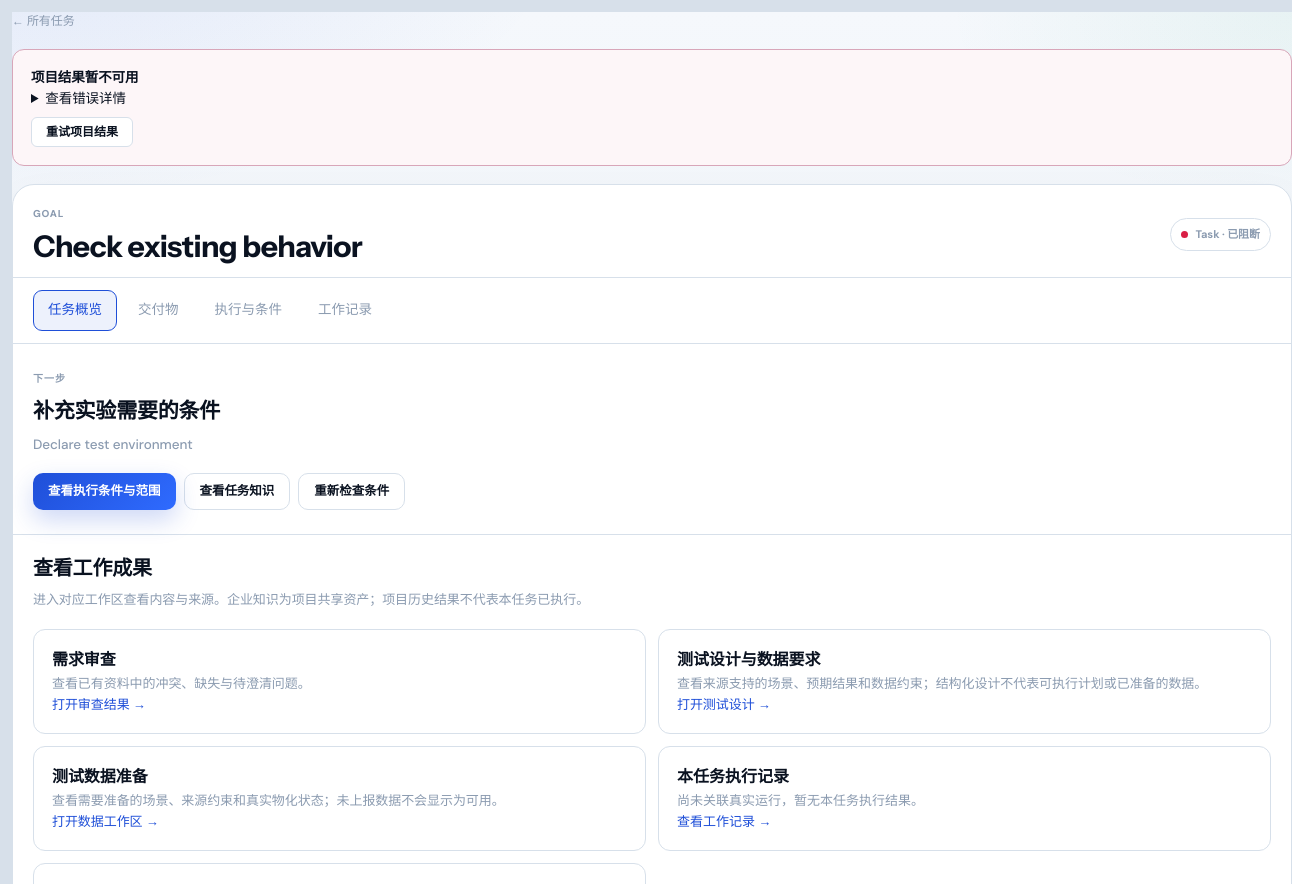
Test case: submits explicit project scope once and reloads durable state on network failure
Click the button "查看执行条件与范围". click: [104, 492]
box: [33, 473, 176, 510]
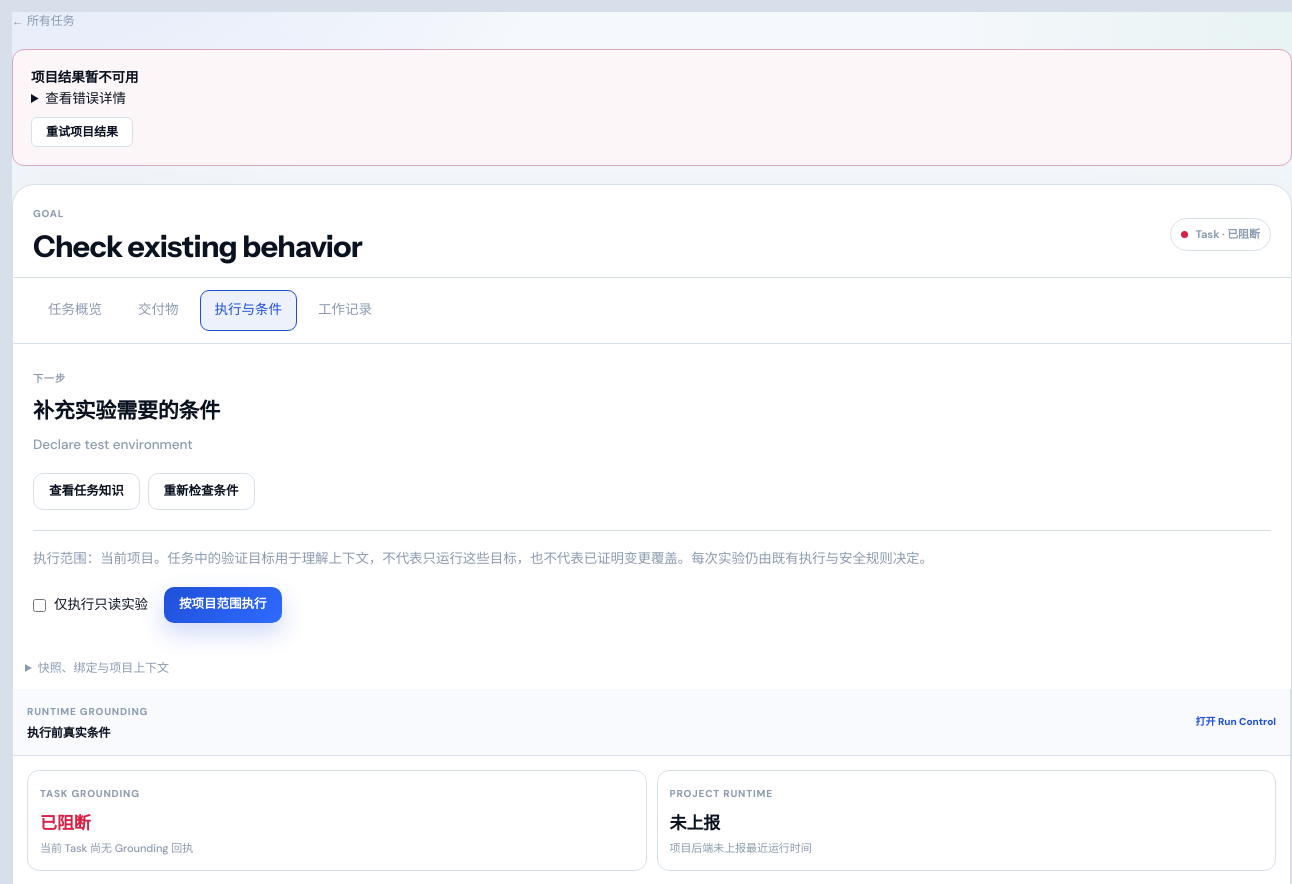
Click the checkbox labelled "仅执行只读实验". click: [40, 605]
box: [33, 599, 46, 612]
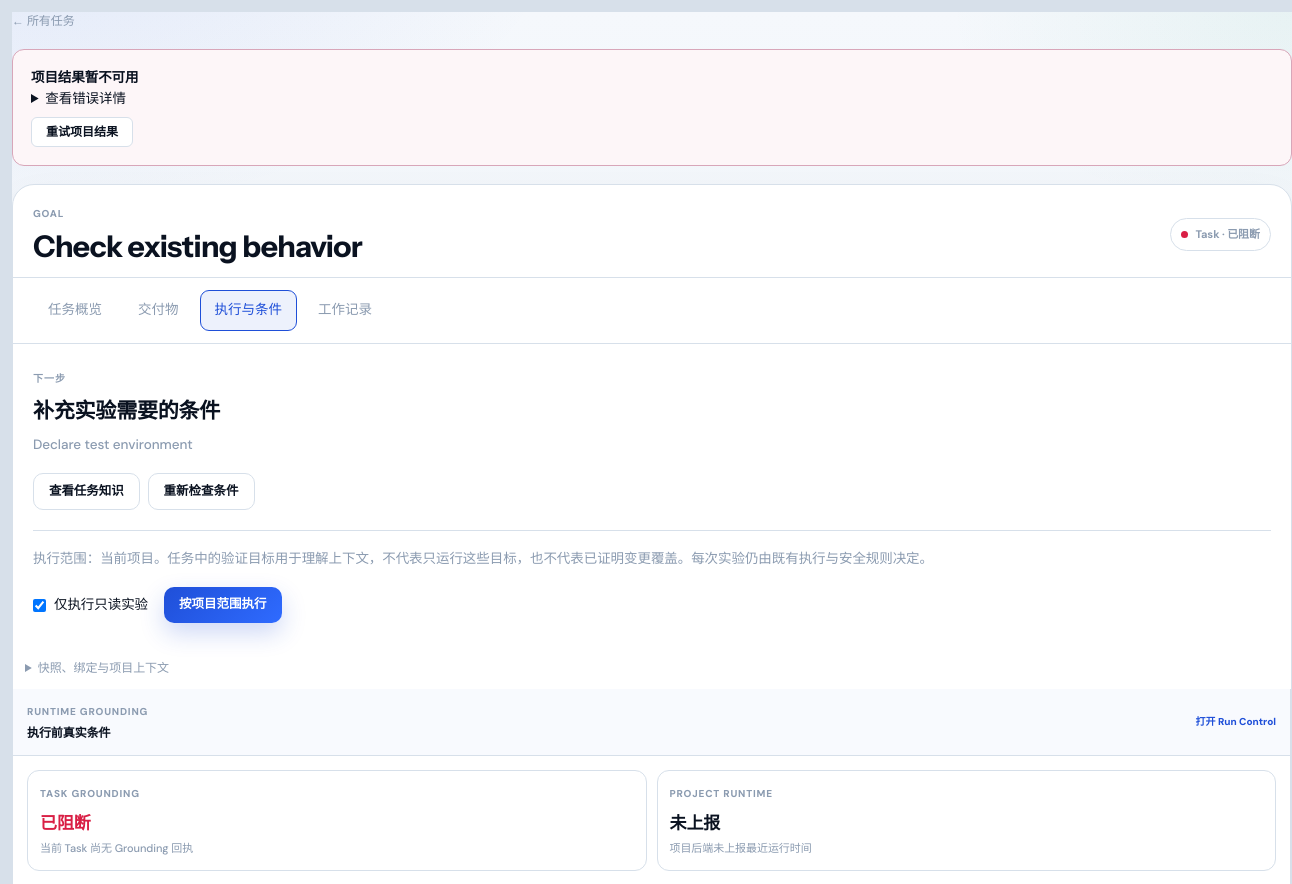
Click the button "按项目范围执行". click: [223, 605]
box: [164, 588, 282, 623]
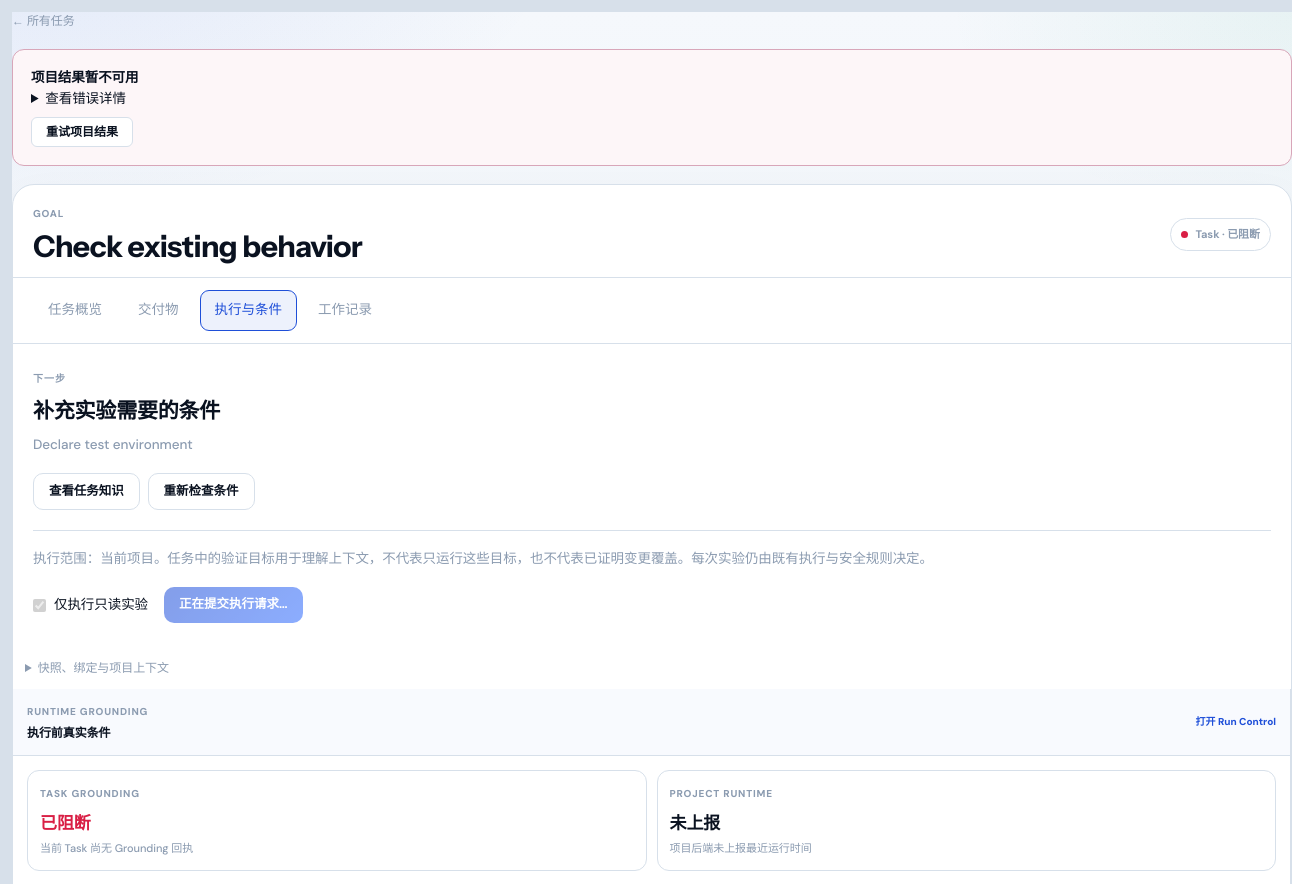
Click the button named "按项目范围执行". click: [233, 605]
box: [164, 588, 303, 623]
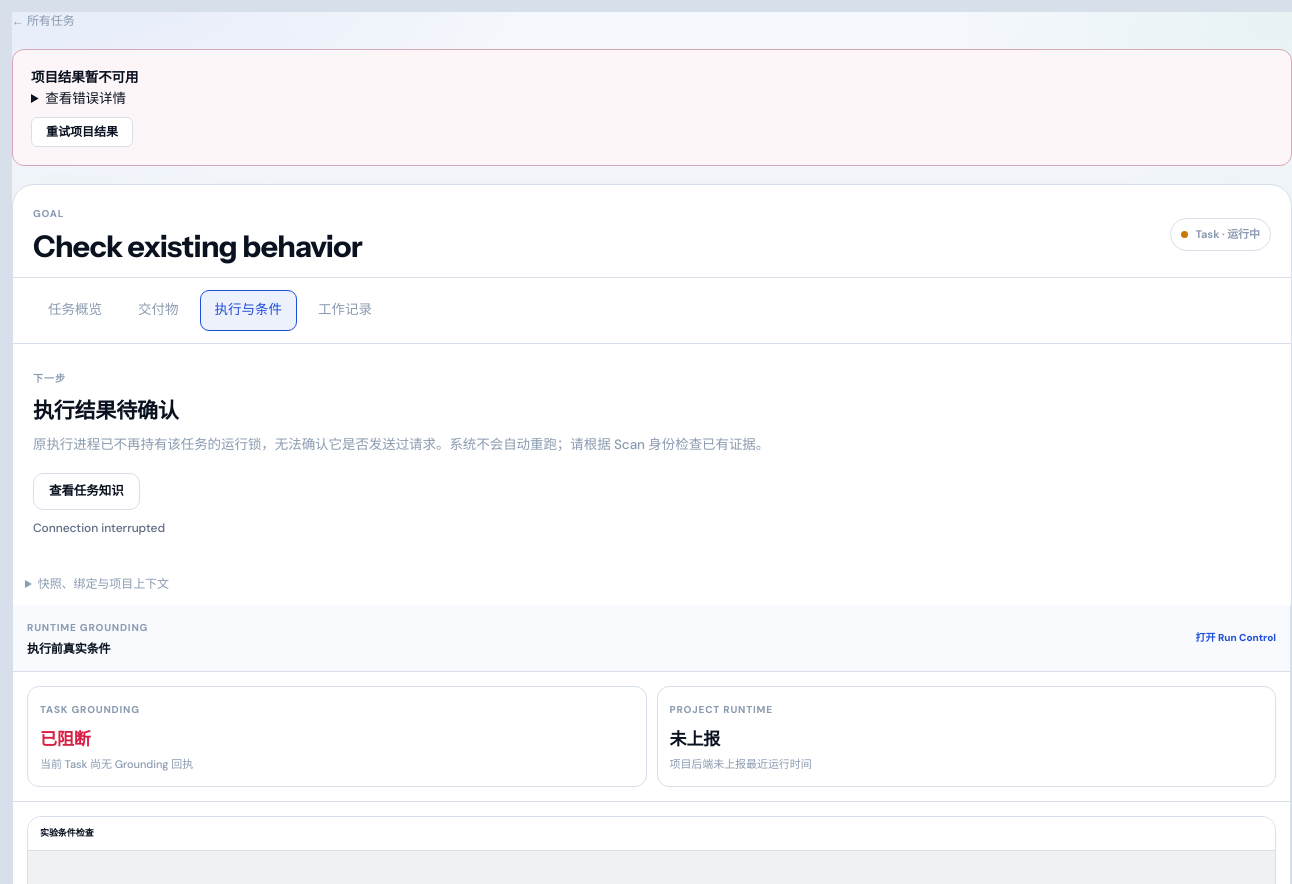
Expected: the button "按项目范围执行" is not shown
Expected: the heading "执行结果待确认" is shown, [33, 398, 178, 423]
Expected: the text "Connection interrupted" is shown, [33, 520, 165, 536]
